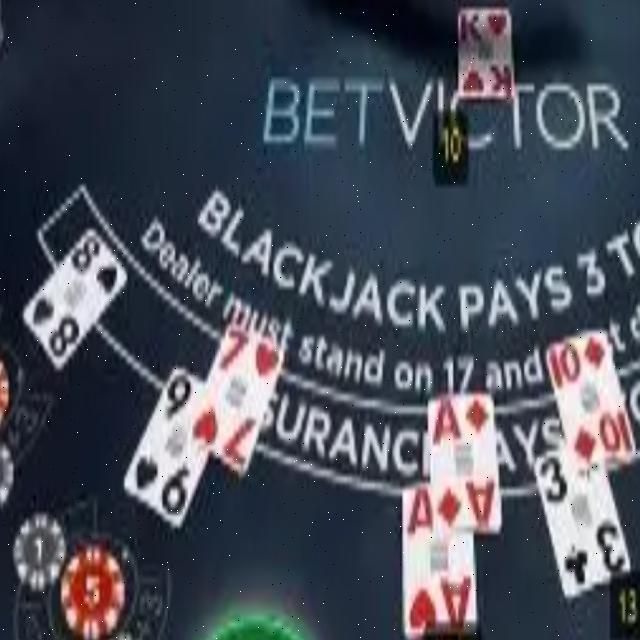Card-10: (547, 327, 634, 473)
Card-3: (534, 447, 630, 598)
Card-7: (189, 324, 283, 478)
Card-8: (24, 226, 126, 371)
Card-9: (124, 365, 208, 527)
Card-A: (402, 481, 476, 637), (428, 395, 500, 530)
Card-K: (457, 6, 513, 94)
